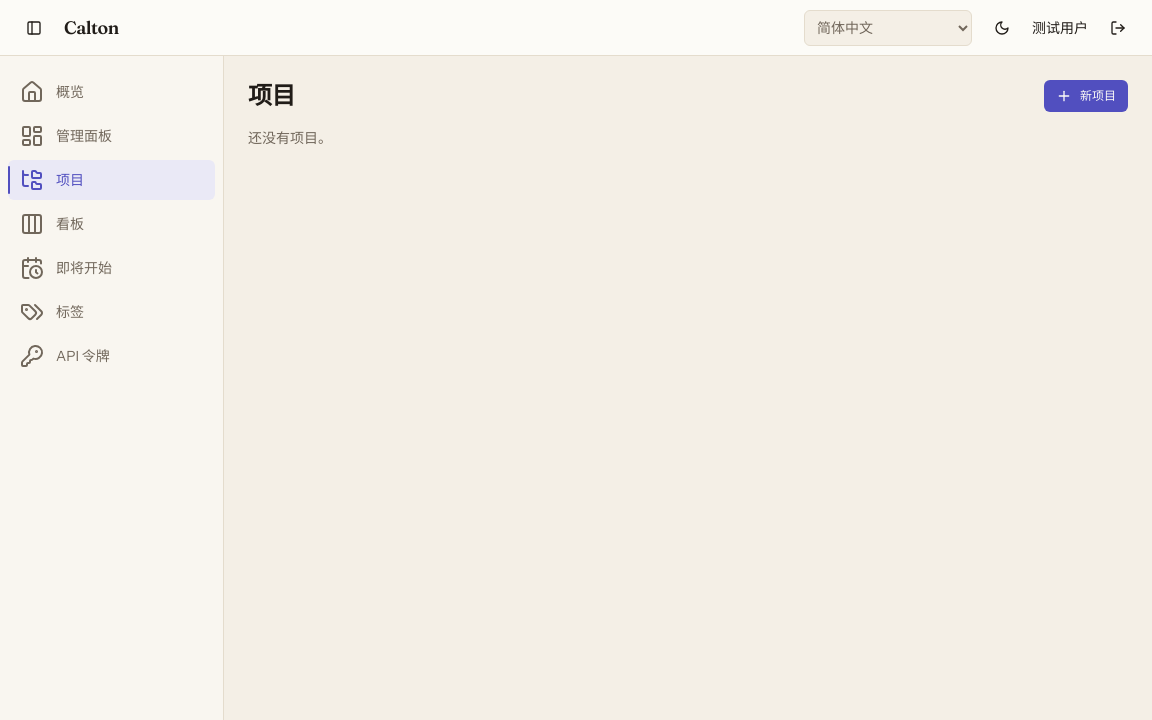
it: 新建项目 › 名称必填，空名称不发请求
The image size is (1152, 720).
Click the button with test id "new-project". click: click(1086, 96)
box: left=1044, top=80, right=1128, bottom=112
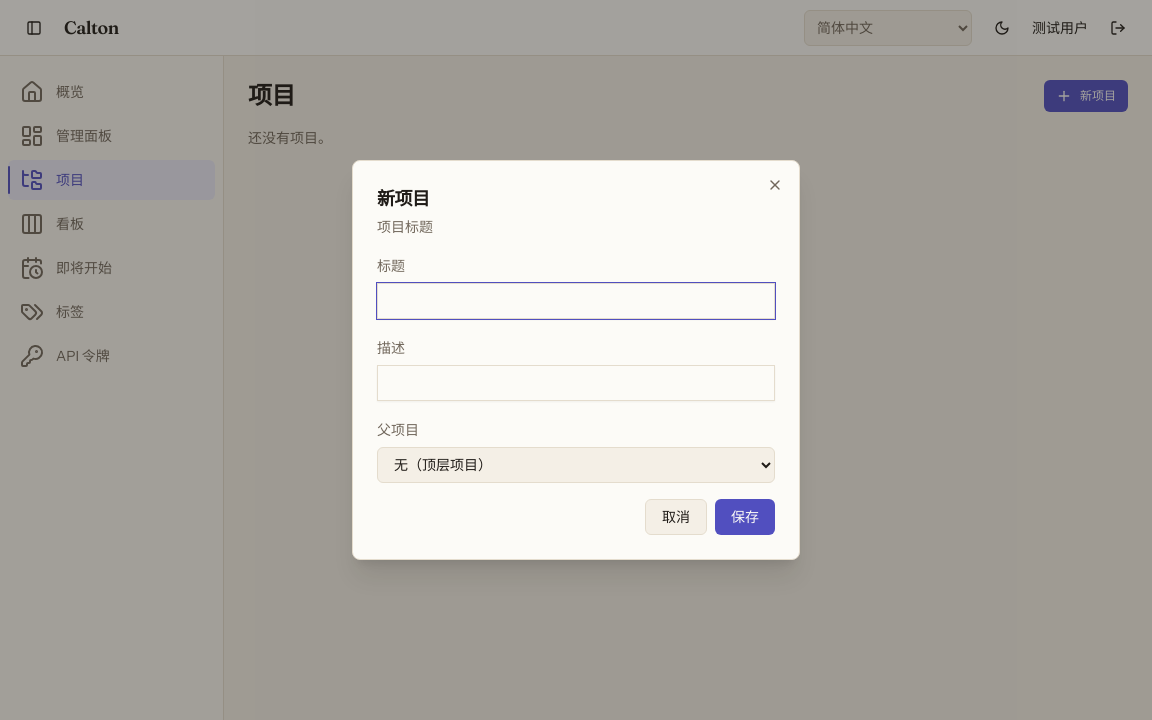
Click the button with test id "project-form-submit". click: click(745, 517)
box: left=715, top=499, right=775, bottom=535
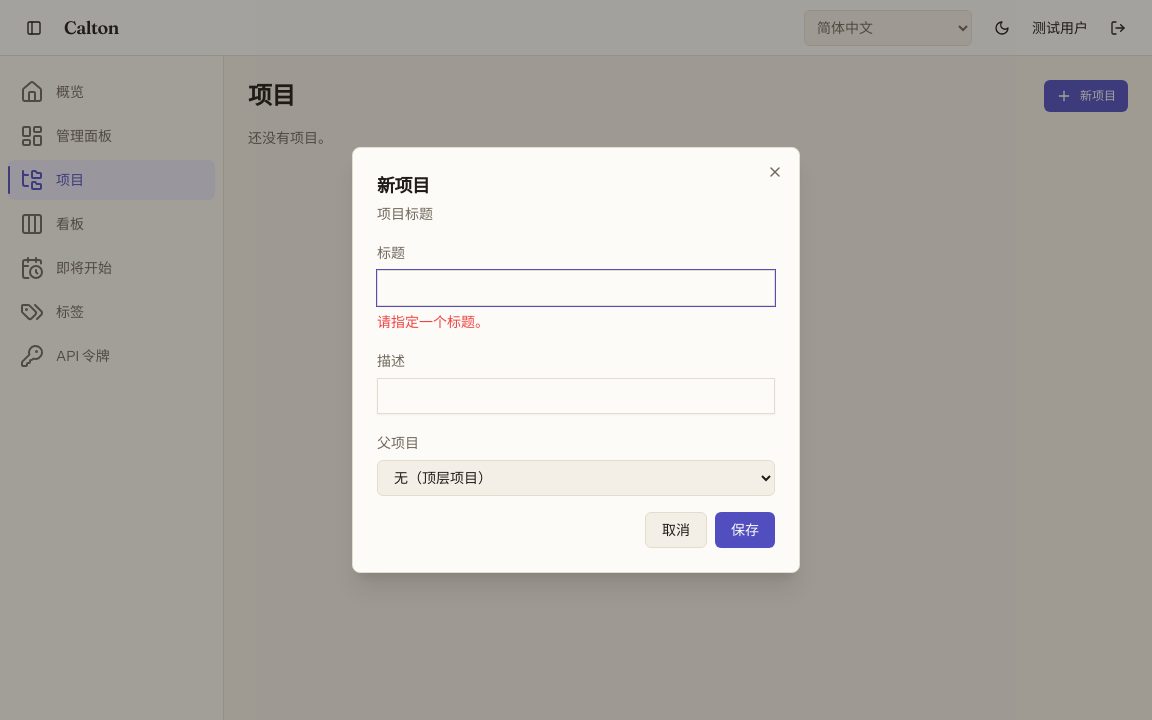
Result: the message "请指定一个标题。" is shown at left=377, top=313, right=489, bottom=331
